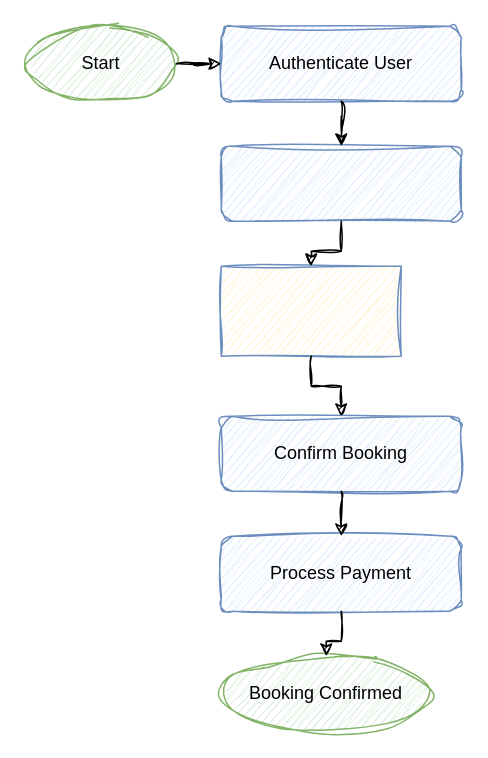
This 488x758 diagram has some shape labels left out. Here are the shapes that lost their labels. From the top down, the box of each, then its label:
(220, 145, 461, 221): Search Property
(220, 265, 401, 356): Check Availability
